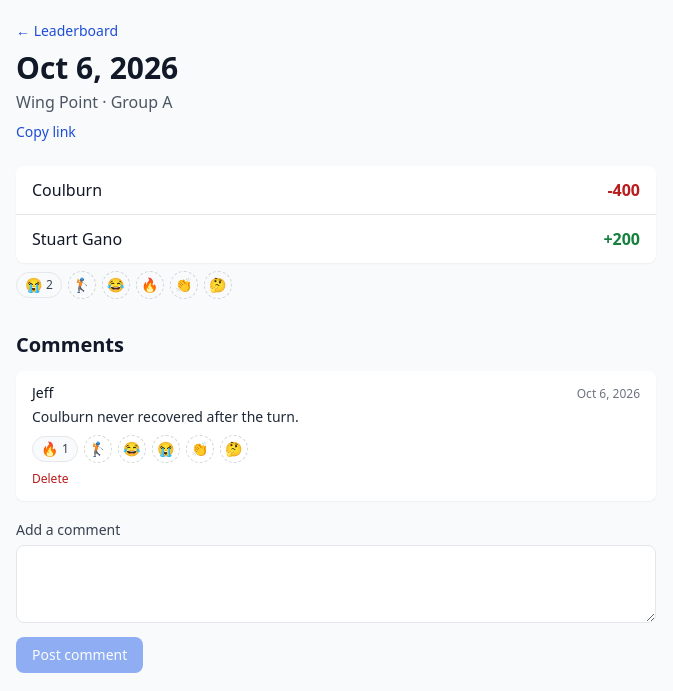
Scenario: RoundStoryPage › posts a comment with the location query ?location=Wing%20Point
The image size is (673, 691).
Type "Great round!" into the text box labelled "Add a comment" at coordinates (336, 584), box [16,545,656,623]
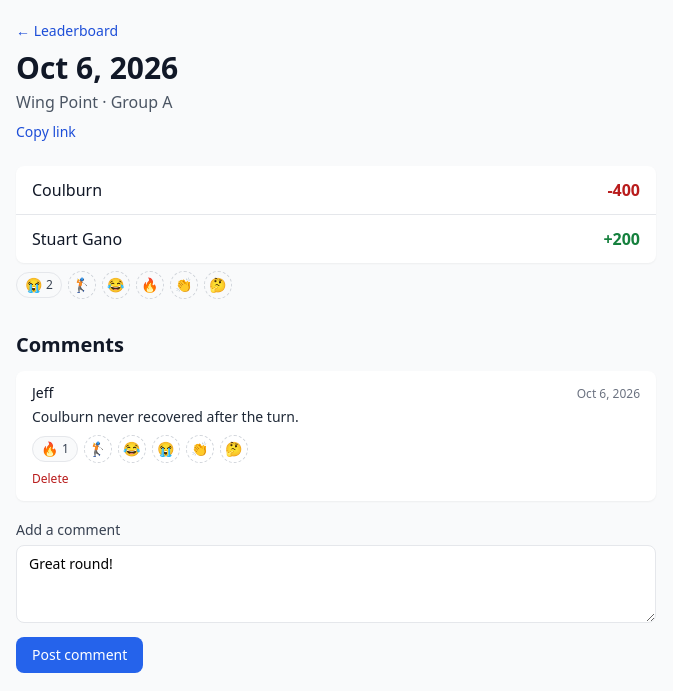
Click the button "Post comment" at coordinates (80, 655), box [16,637,143,673]
(page scrolled)
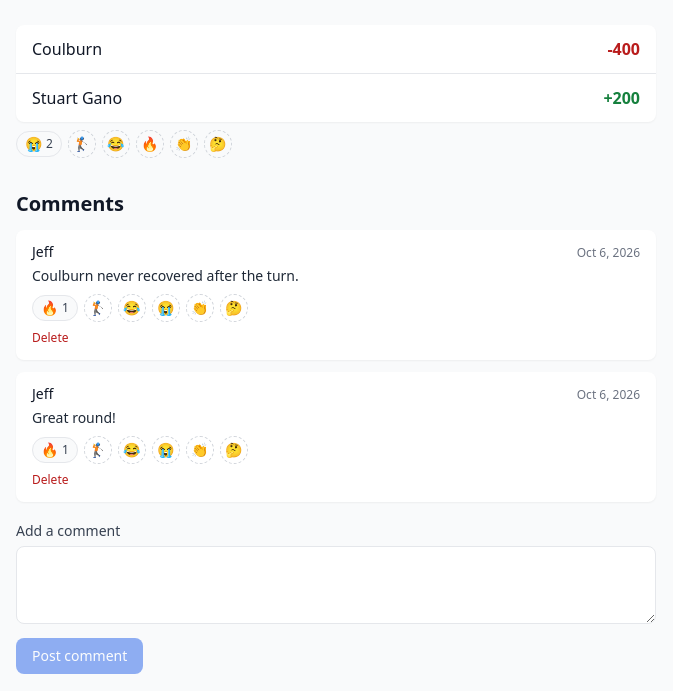
Now the text "Great round!" is shown, box [32,408,116,427]
Now the text box labelled "Add a comment" is empty, box [16,546,656,624]
